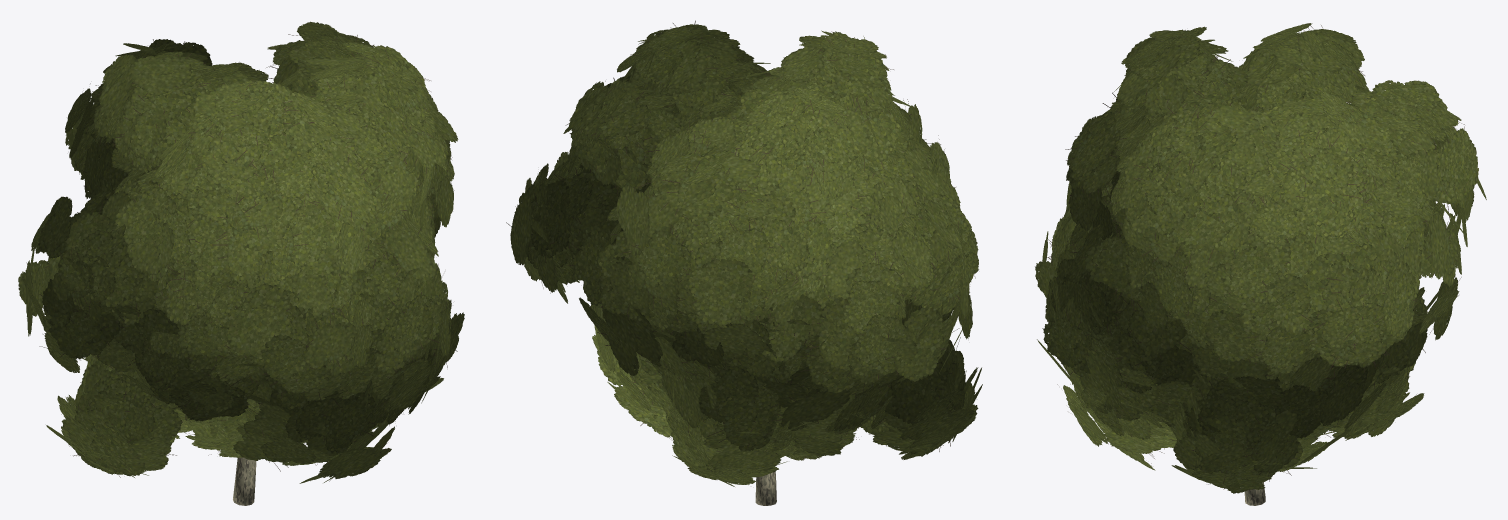
Rendered from SM_Albero_LatifogliaB.fbx.
The picture shows the model from 3 angles, left to right: view 1: azimuth 30°, elevation 25°; view 2: azimuth 150°, elevation 25°; view 3: azimuth 270°, elevation 25°; orthographic projection.
Visible parts, largest first — view 1: SM_Albero_LatifogliaB; view 2: SM_Albero_LatifogliaB; view 3: SM_Albero_LatifogliaB.
Boxes of the visible parts, x1,y1,x2,y2 form: SM_Albero_LatifogliaB: (18,21,464,505); SM_Albero_LatifogliaB: (506,20,982,505); SM_Albero_LatifogliaB: (1035,23,1486,505).
Size of what is drawn, in the model's own units: 1775 by 1653 by 1809.
Materials: 2 (2 with a texture image).
